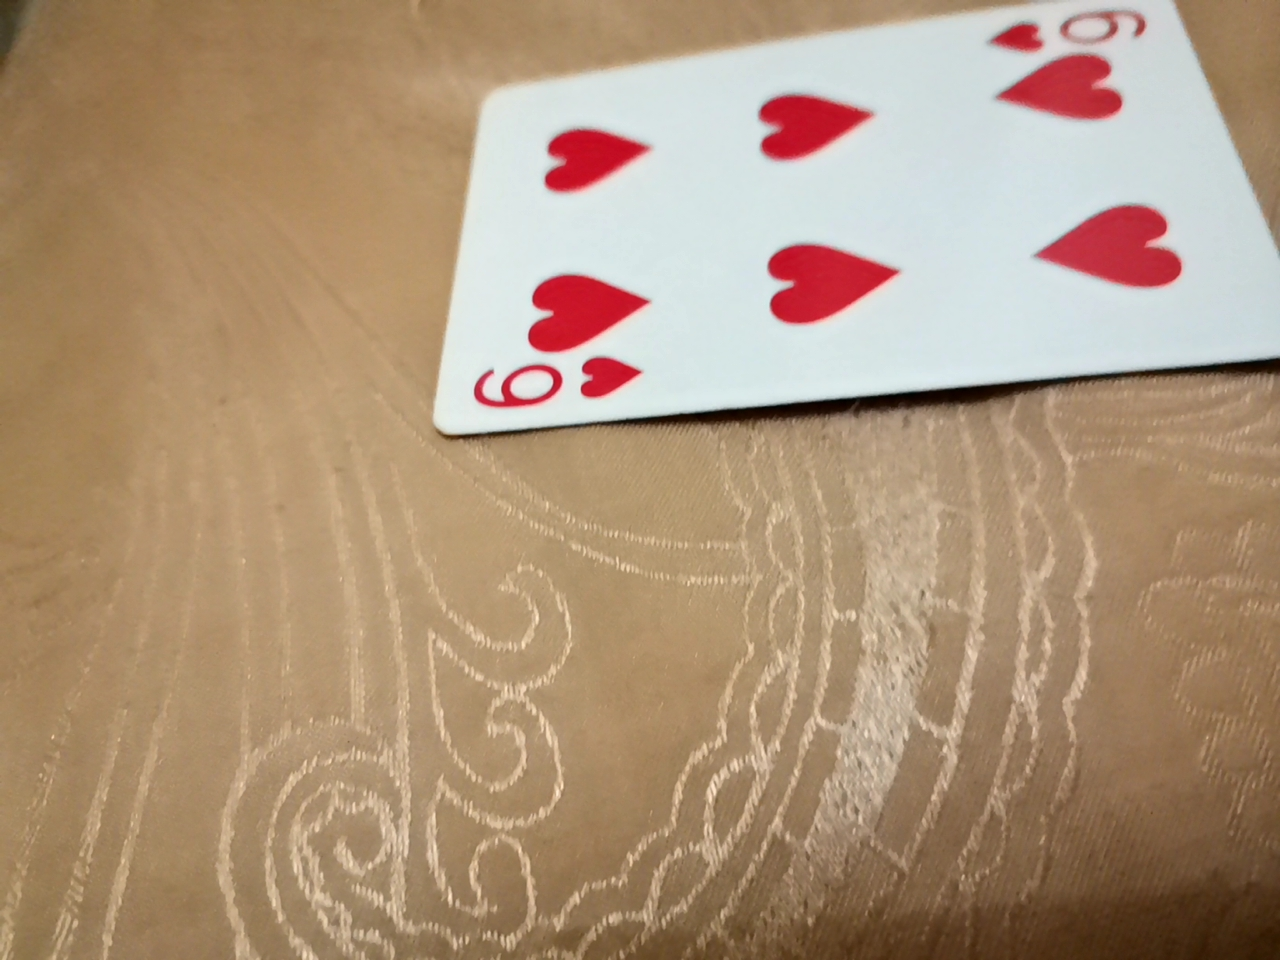hx 6: (431, 73, 1276, 482)
